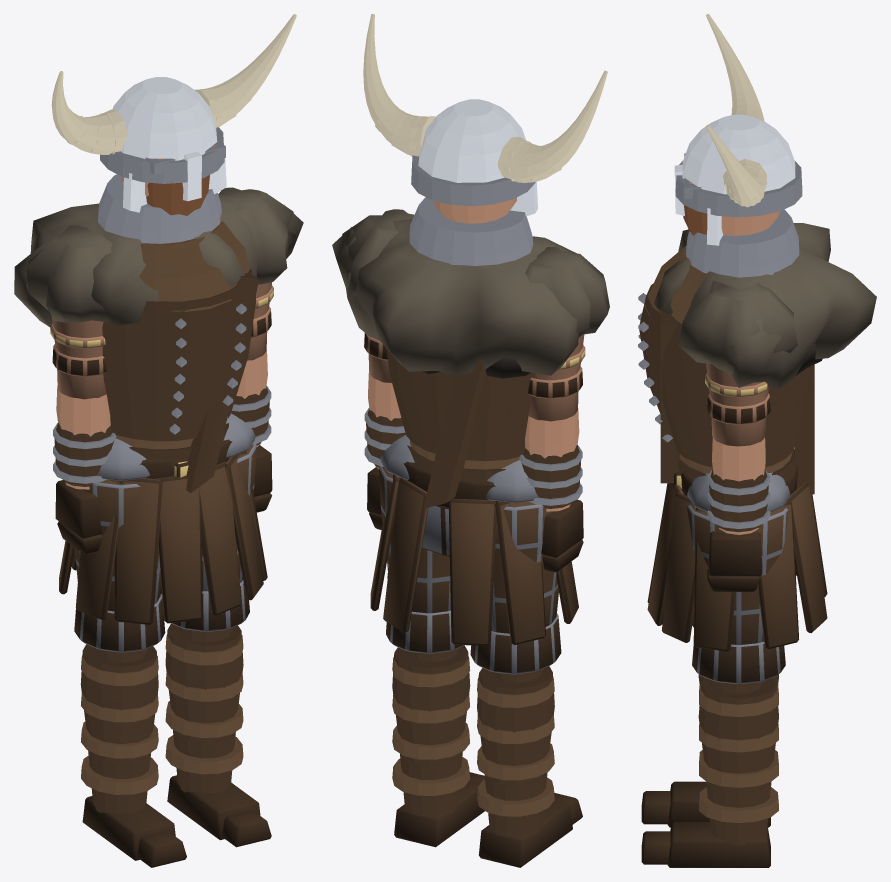
Rendered from knight_raider.glb.
3 renders of one model, left to right at view 1: azimuth 30°, elevation 25°; view 2: azimuth 150°, elevation 25°; view 3: azimuth 270°, elevation 25°, orthographic. The views are drawn at different scales.
Visible parts, largest first — view 1: M_Torso, M_Hips, M_Head, M_LegR_Lower, M_LegL_Lower, M_ArmR_Upper, M_LegR_Upper, M_ArmL_Upper, M_ArmR_Lower, M_FootL, M_FootR, M_LegL_Upper (+3 smaller); view 2: M_Torso, M_Head, M_Hips, M_LegR_Lower, M_LegL_Lower, M_LegR_Upper, M_ArmR_Upper, M_LegL_Upper, M_ArmR_Lower, M_FootR, M_ArmL_Upper, M_FootL (+3 smaller); view 3: M_Torso, M_Head, M_Hips, M_LegL_Lower, M_ArmL_Upper, M_LegL_Upper, M_ArmL_Lower, M_FootL, M_HandL, M_FootR.
Boxes of the visible parts, box(x1,y1,x2,y2) form: M_Torso: box(14, 195, 303, 493); M_Hips: box(59, 439, 267, 624); M_Head: box(51, 14, 296, 243); M_LegR_Lower: box(80, 644, 158, 813); M_LegL_Lower: box(165, 623, 243, 792); M_ArmR_Upper: box(26, 225, 130, 399); M_LegR_Upper: box(74, 438, 165, 652); M_ArmL_Upper: box(218, 187, 296, 360); M_ArmR_Lower: box(53, 386, 116, 489); M_FootL: box(167, 775, 271, 847); M_FootR: box(82, 796, 186, 867); M_LegL_Upper: box(161, 413, 256, 631); M_Torso: box(332, 218, 578, 508); M_Head: box(363, 14, 607, 265); M_Hips: box(370, 461, 578, 645); M_LegR_Lower: box(477, 666, 554, 836); M_LegL_Lower: box(392, 645, 470, 816); M_LegR_Upper: box(470, 460, 561, 674); M_ArmR_Upper: box(525, 247, 609, 421); M_LegL_Upper: box(379, 435, 464, 653); M_ArmR_Lower: box(519, 408, 582, 511); M_FootR: box(478, 793, 582, 867); M_ArmL_Upper: box(342, 209, 414, 382); M_FootL: box(394, 772, 484, 847); M_Torso: box(638, 223, 876, 494); M_Head: box(674, 14, 802, 277); M_Hips: box(647, 458, 827, 651); M_LegL_Lower: box(698, 678, 778, 845); M_ArmL_Upper: box(679, 281, 797, 446); M_LegL_Upper: box(687, 472, 790, 683); M_ArmL_Lower: box(707, 437, 770, 534); M_FootL: box(641, 822, 770, 867); M_HandL: box(707, 531, 762, 591); M_FootR: box(641, 781, 770, 827).
Bounding box in the file's own units: 0.6963 × 1.96 × 0.5513.
